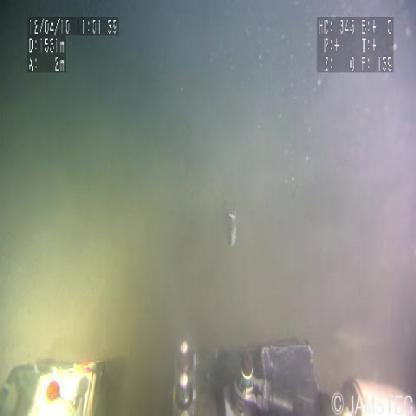Rác: (225, 207, 243, 251)
